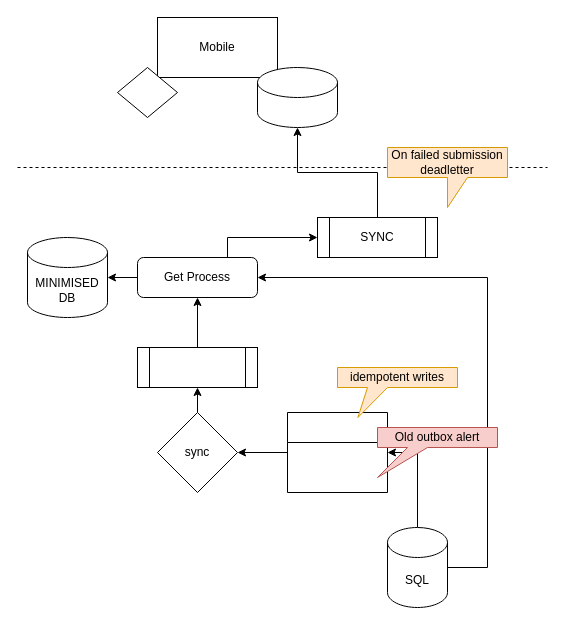
Some shapes in this 566 by 625 pixel diagram are drawn without their labels. The shapes that lost their labels are listed below. From the top down, each one's centre as x and y in pixels, then its label:
point 147,92: polling
point 297,97: Couchbase sync
point 197,367: Message
point 337,452: Outbox
